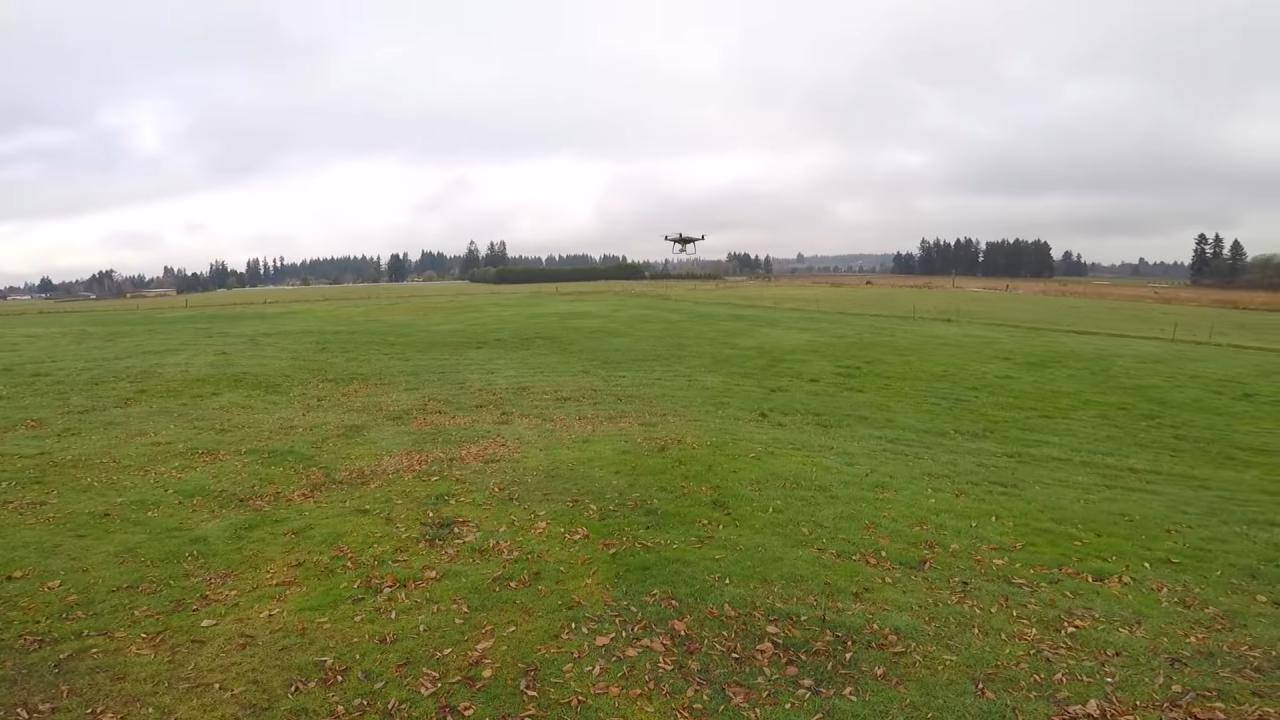Drone: (656, 221, 714, 262)
